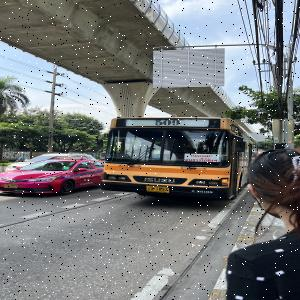BMTA-bus: (102, 117, 255, 200)
Bus Line Number: (152, 119, 183, 126)
Bus Side Number: (190, 188, 215, 195)
Destination Sign: (184, 154, 219, 162)
